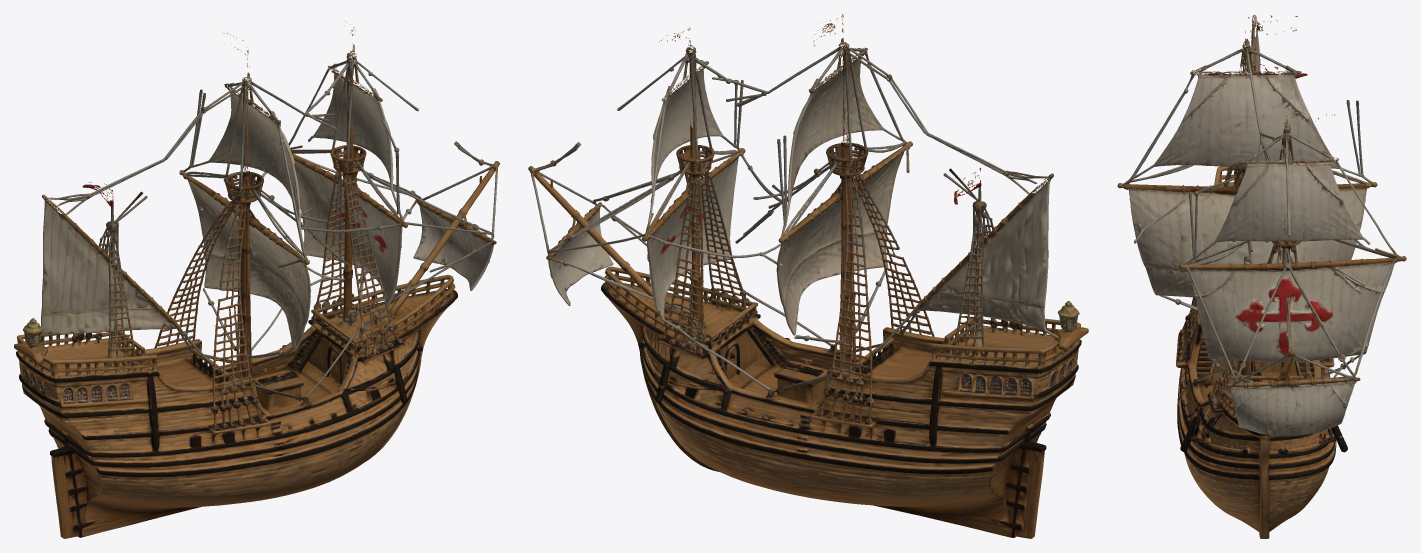
Rendered from nao-victoria-v5.glb.
3 views of the same model, side by side, from view 1: azimuth 30°, elevation 25°; view 2: azimuth 150°, elevation 25°; view 3: azimuth 270°, elevation 25° (orthographic). The views are drawn at different scales.
Parts seen in each view (by area): view 1: tripo_node_b53669e3-e6ad-4e67-a9c1-8b2bd52ef4c3; view 2: tripo_node_b53669e3-e6ad-4e67-a9c1-8b2bd52ef4c3; view 3: tripo_node_b53669e3-e6ad-4e67-a9c1-8b2bd52ef4c3.
Boxes of the visible parts, bbox=[...] form: tripo_node_b53669e3-e6ad-4e67-a9c1-8b2bd52ef4c3: bbox=[14, 22, 499, 538]; tripo_node_b53669e3-e6ad-4e67-a9c1-8b2bd52ef4c3: bbox=[528, 14, 1088, 538]; tripo_node_b53669e3-e6ad-4e67-a9c1-8b2bd52ef4c3: bbox=[1117, 15, 1406, 538].
Size of the model in its own units: 10.77 by 9.41 by 5.27.
Materials: 1 (1 with a texture image).
